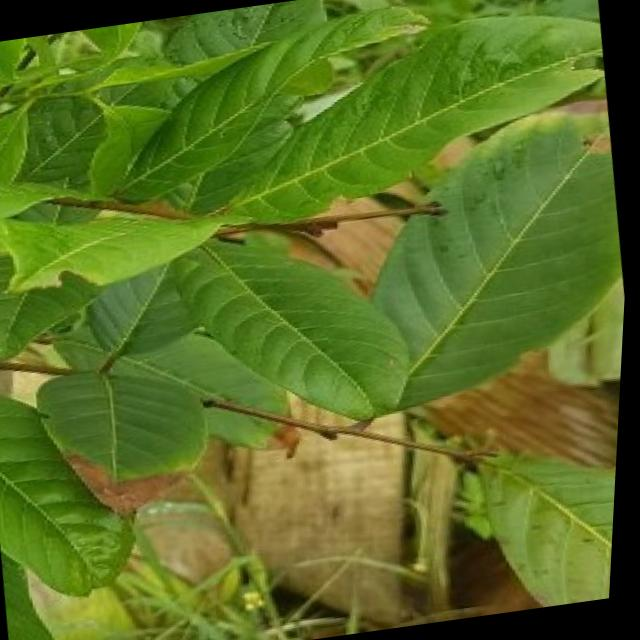Leaf Blight: (40, 382, 189, 533), (247, 401, 339, 459)
